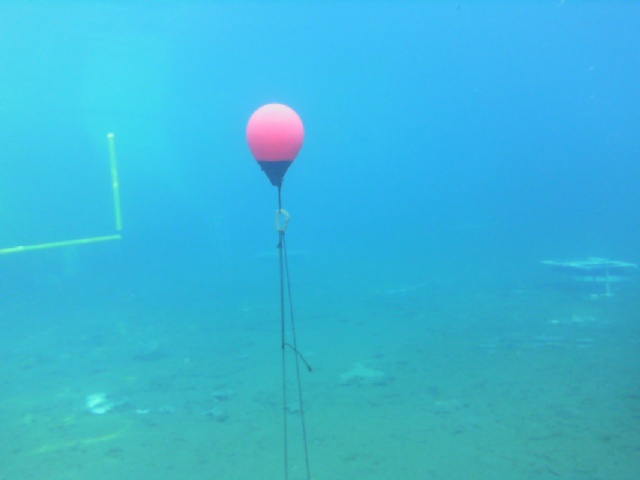buoy_red: (245, 103, 303, 185)
